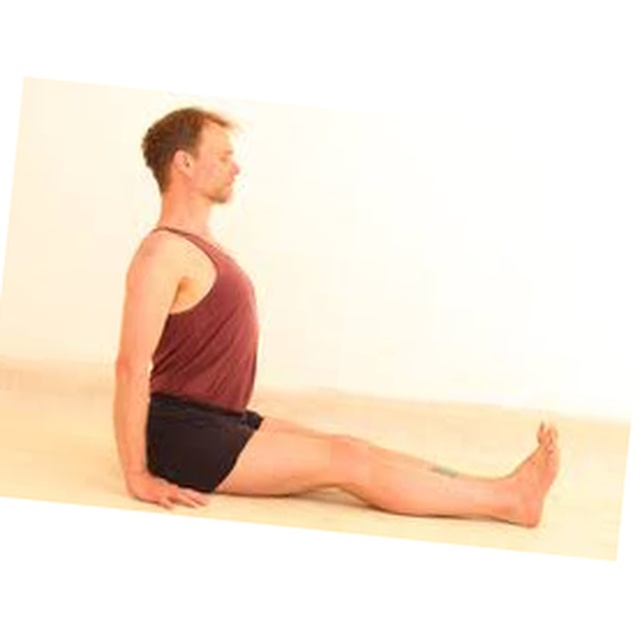Staff_Pose: (114, 105, 566, 527)
